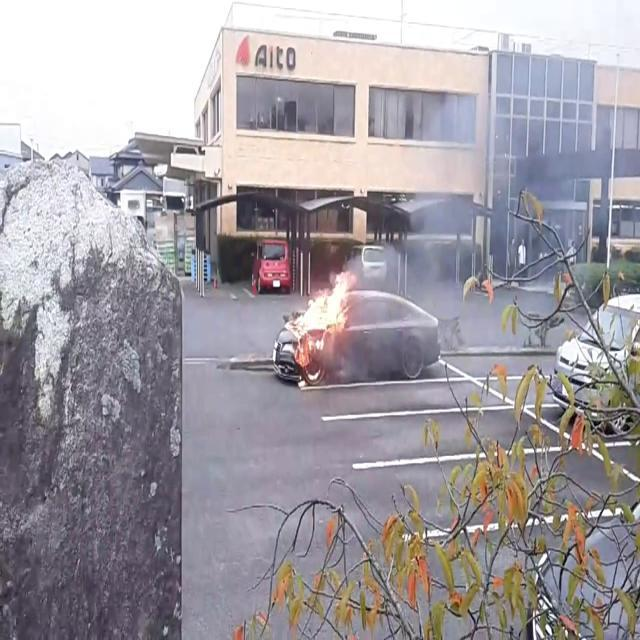Fire: (287, 265, 354, 362)
Smoke: (370, 34, 618, 318)
